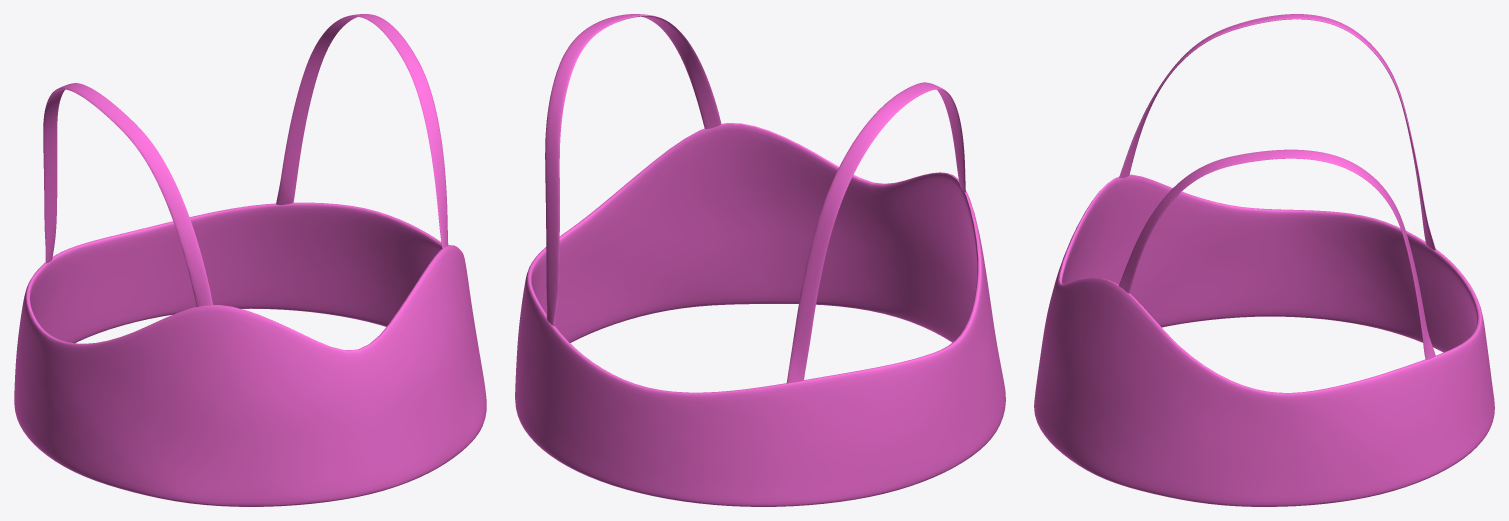
File: Spaghetti .gltf
The picture shows the model from 3 angles, left to right: view 1: azimuth 30°, elevation 25°; view 2: azimuth 150°, elevation 25°; view 3: azimuth 270°, elevation 25°; orthographic projection. The views are drawn at different scales.
Parts seen in each view (by area): view 1: cloth8; view 2: cloth8; view 3: cloth8.
Boxes of the visible parts, left/top/right/bottom form: cloth8: left=14, top=14, right=486, bottom=506; cloth8: left=515, top=14, right=1005, bottom=506; cloth8: left=1034, top=14, right=1494, bottom=506.
Bounding box in the file's own units: 5.98 × 4.75 × 6.04.
